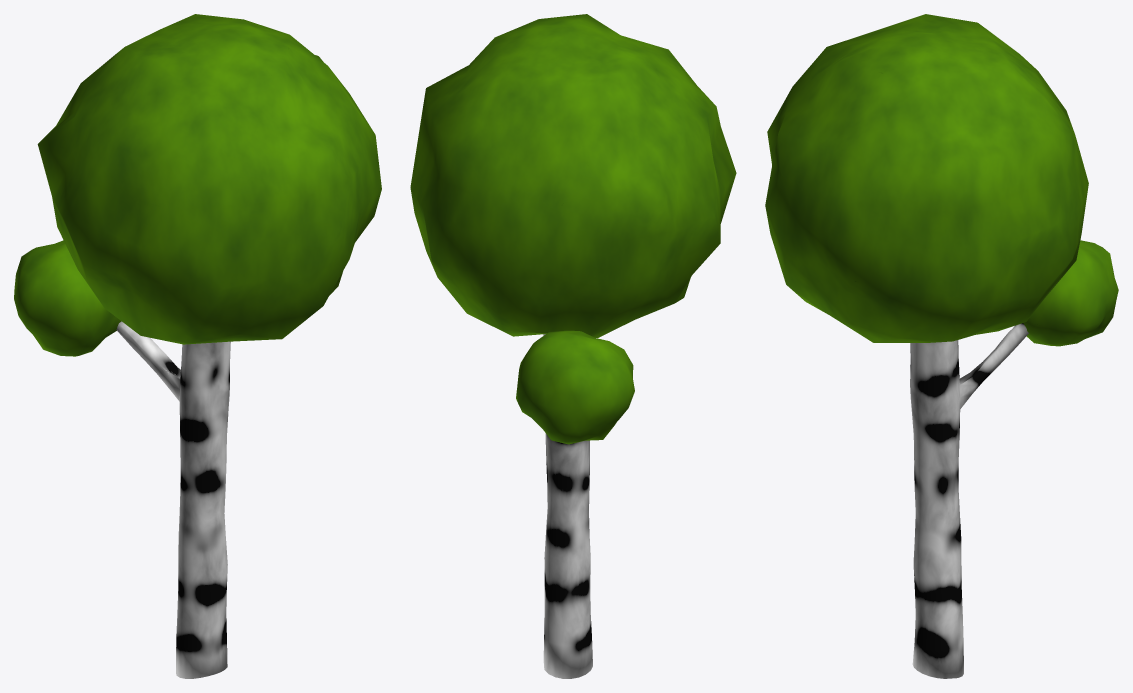
File: BirchGreen.fbx
3 renders of one model, left to right at view 1: azimuth 30°, elevation 25°; view 2: azimuth 150°, elevation 25°; view 3: azimuth 270°, elevation 25°, orthographic. The views are drawn at different scales.
Visible parts, largest first — view 1: BirchGreen; view 2: BirchGreen; view 3: BirchGreen.
Part boxes in pixels (x1,y1,x2,y2): BirchGreen: (14,14,381,678); BirchGreen: (410,14,736,678); BirchGreen: (765,14,1118,678).
Size of the model in its own units: 237 by 500 by 250.
Materials: 2 (2 with a texture image).
